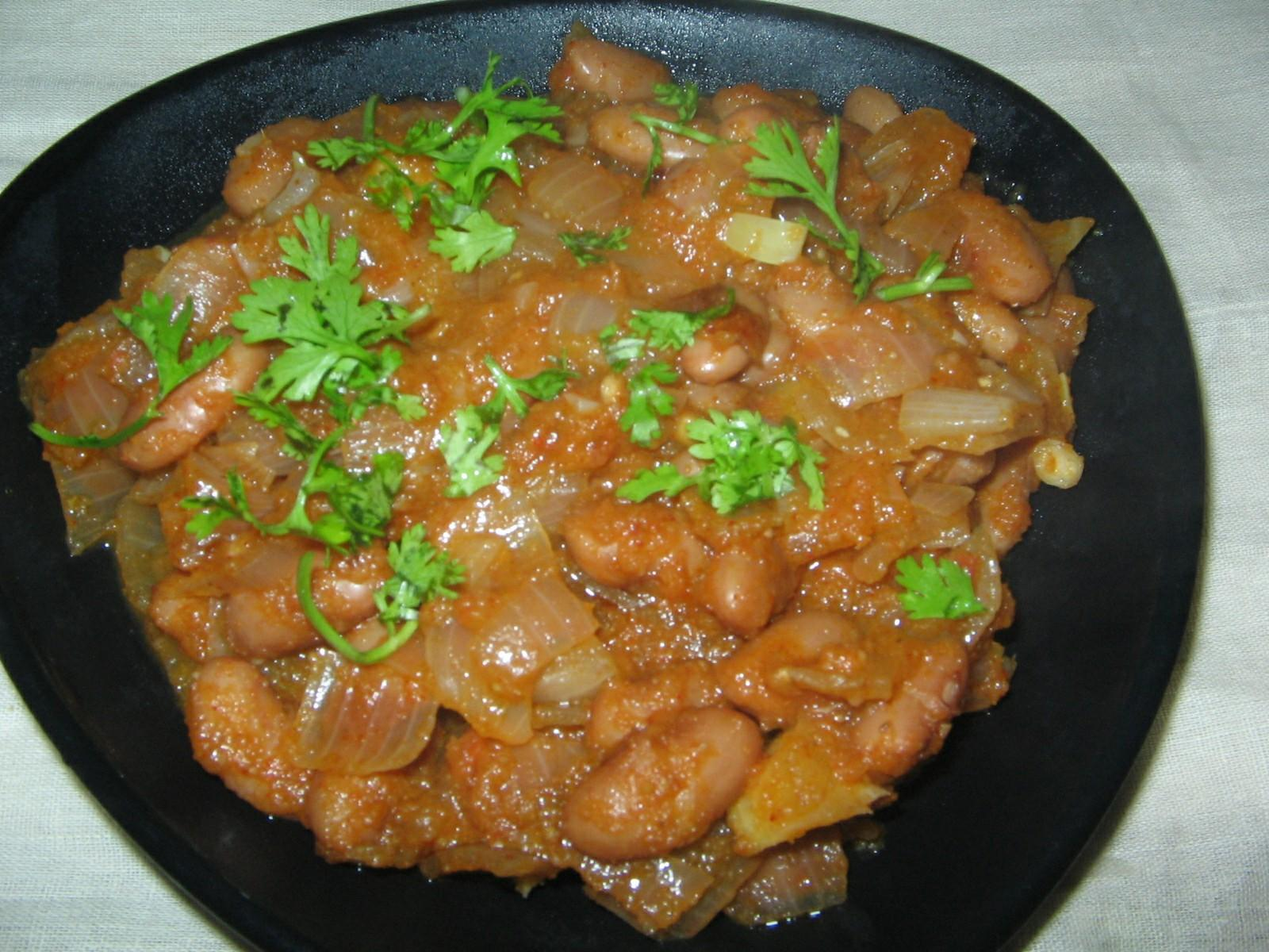RajmaCurry: (27, 17, 1096, 942)
